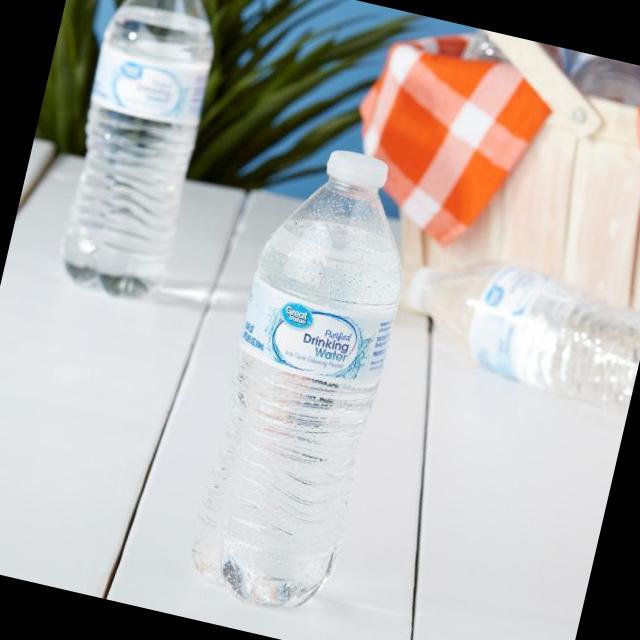plastic_bottle: (180, 137, 428, 620), (46, 0, 234, 307), (392, 242, 640, 416)
